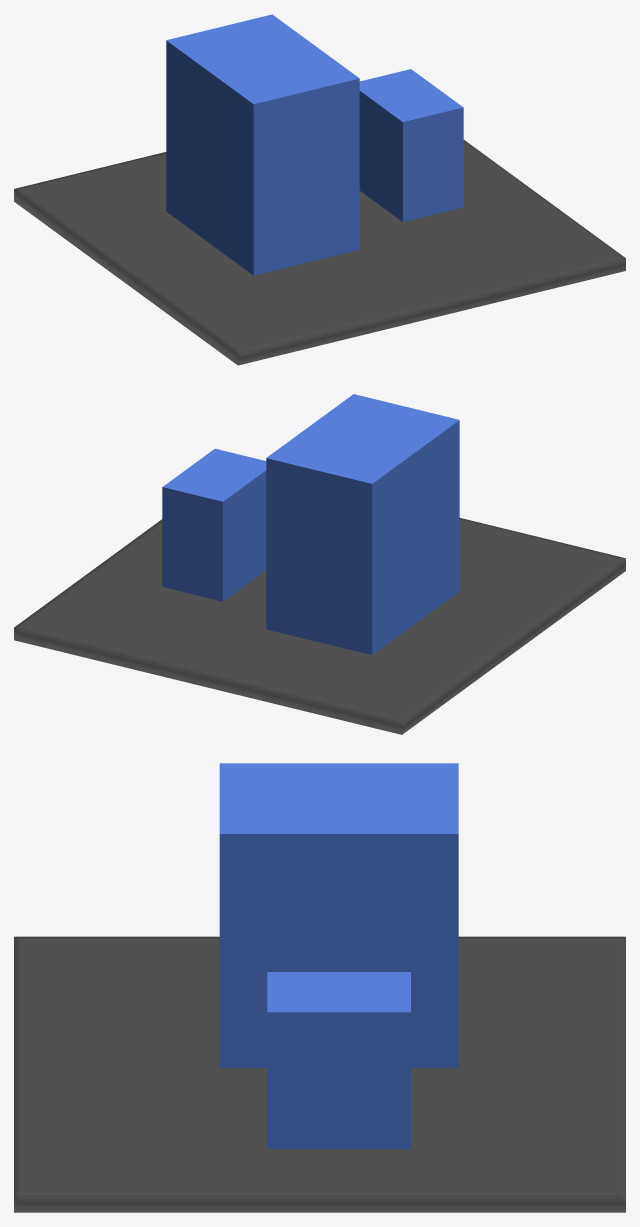
File: native_baseline.glb
The picture shows the model from 3 angles, top to bottom: view 1: azimuth 30°, elevation 25°; view 2: azimuth 150°, elevation 25°; view 3: azimuth 270°, elevation 25°; orthographic projection. The views are drawn at different scales.
Bounding box in the file's own units: 64 × 29 × 64.
